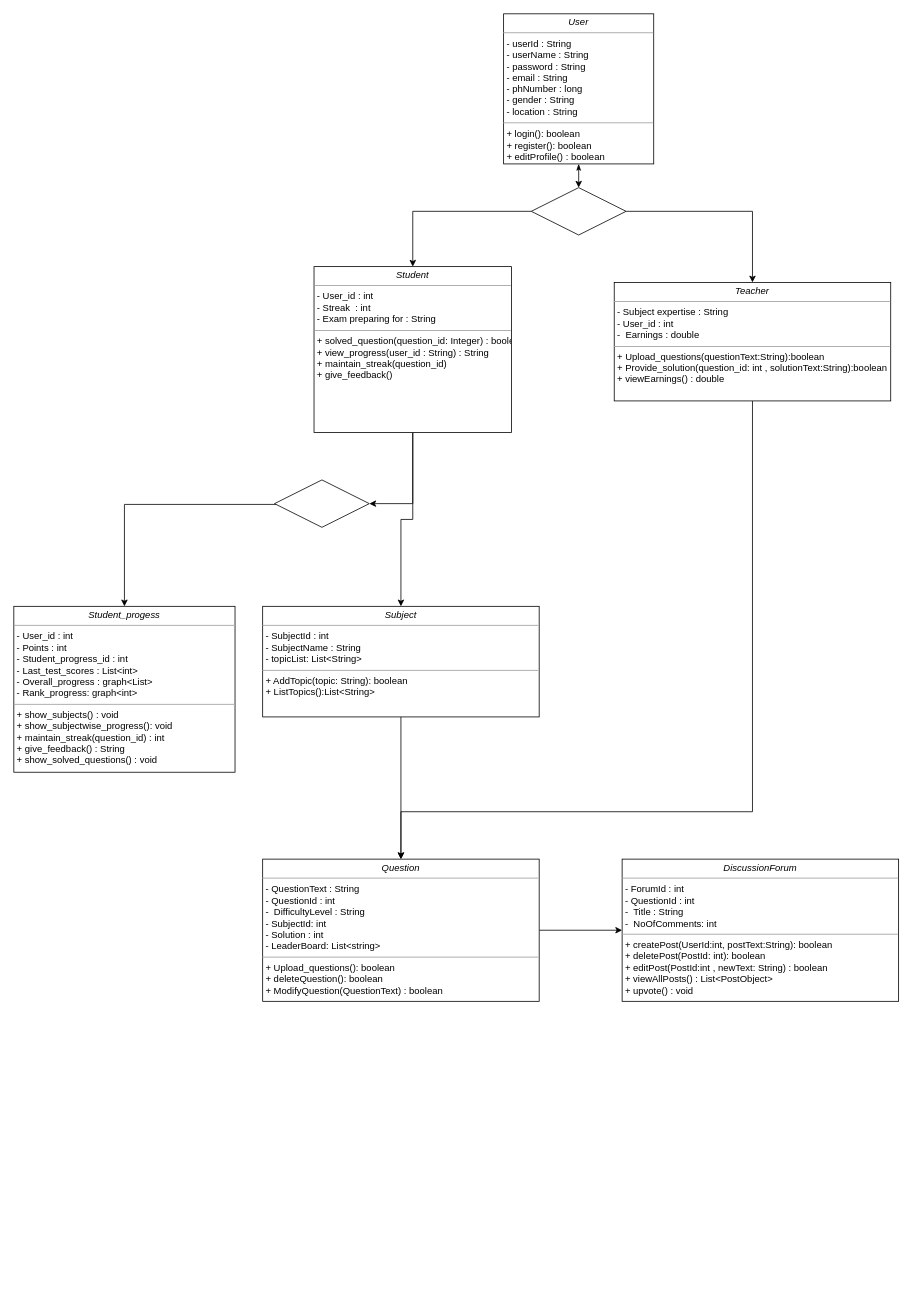
Some shapes in this 912 by 1290 pixel diagram are drawn without their labels. Each missing label, with the box of its shape:
Has A: (274, 479, 369, 527)
IS A: (530, 187, 626, 235)
